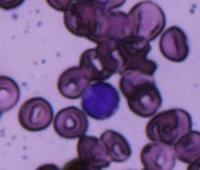L: (82, 82, 120, 120)
